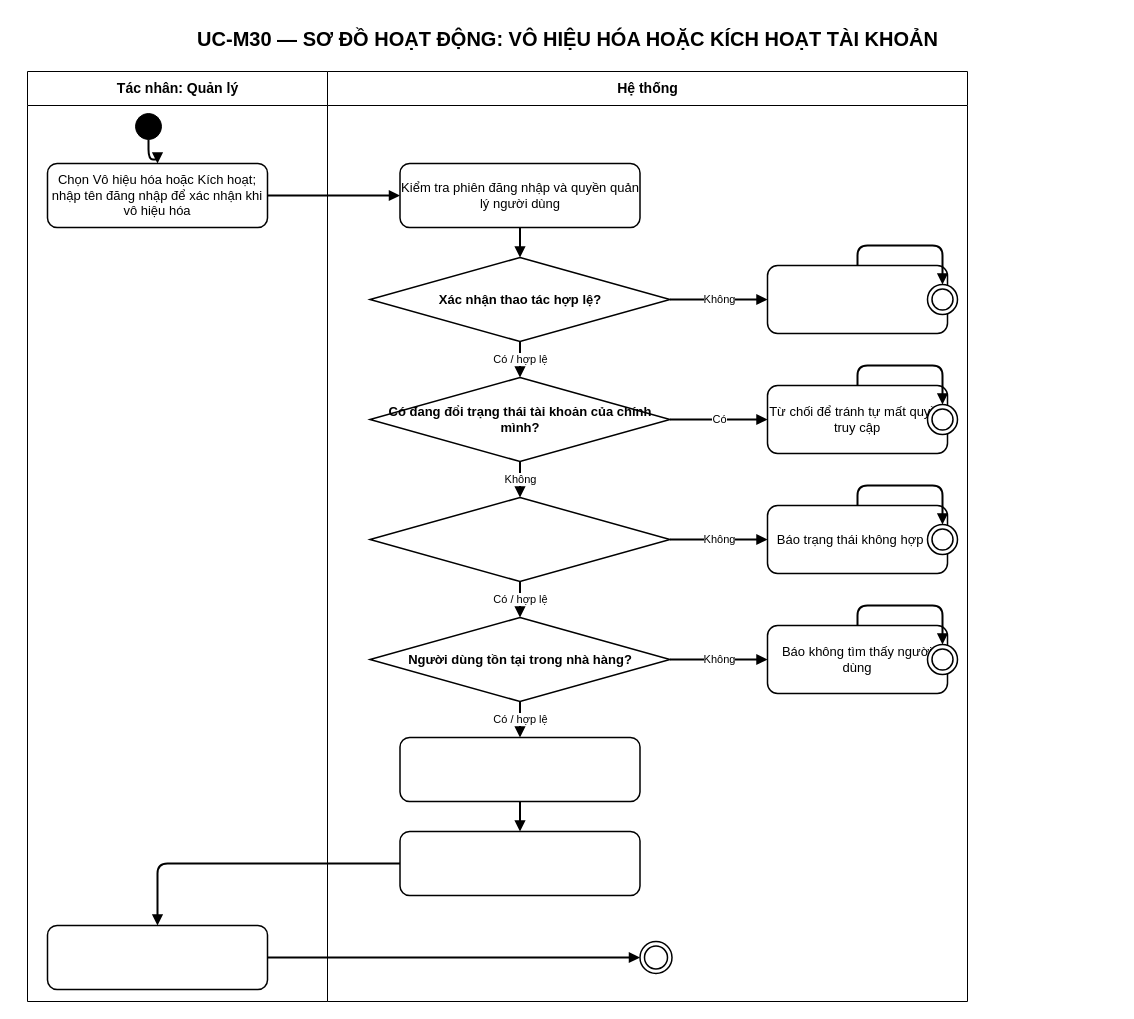
Some shapes in this 1134 by 1019 pixel diagram are drawn without their labels. Each missing label, with the box of its shape:
Cập nhật trạng thái và tăng version người dùng: (399, 736, 640, 802)
Danh sách người dùng hiển thị trạng thái mới: (46, 924, 268, 990)
Ghi sự kiện quản trị và không phát realtime: (399, 830, 640, 896)
Giữ nguyên tài khoản và yêu cầu xác nhận lại: (766, 264, 948, 334)
Trạng thái đích là ACTIVE hoặc INACTIVE?: (369, 496, 670, 582)
